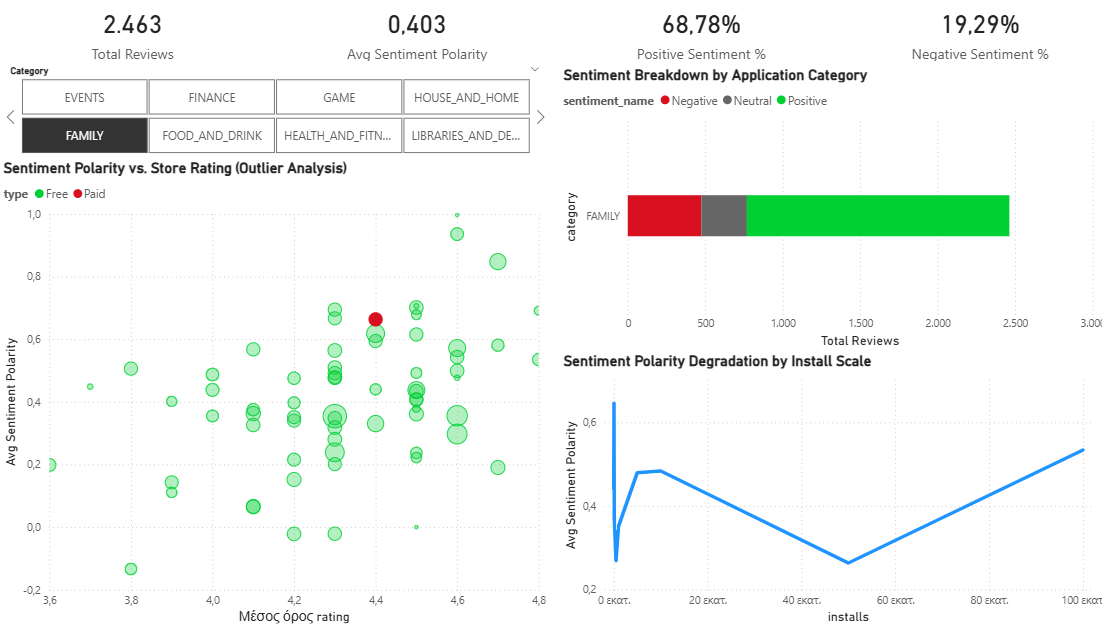

Layout of this report page (visuals, bound fields, positions):
{"tool":"powerbi","page":{"name":"Influencing Factors","canvas":[1280,720],"ordinal":2},"visuals":[{"type":"scatterChart","title":"Sentiment Polarity vs. Store Rating (Outlier Analysis)","fields":{"Category":["playstore_dw dim_apps.app_name"],"X":["playstore_dw dim_apps.rating"],"Y":["_Measures.Avg Sentiment Polarity"],"Size":["_Measures.Total Reviews"],"Series":["playstore_dw dim_apps.type"]},"box":[0,184.3,630,535.7],"z":0},{"type":"barChart","title":"Sentiment Breakdown by Application Category","fields":{"Category":["playstore_dw dim_apps.category"],"Y":["_Measures.Total Reviews"],"Series":["playstore_dw dim_sentiment_types.sentiment_name"]},"box":[640,77.1,630,327.1],"z":1000},{"type":"lineChart","title":"Sentiment Polarity Degradation by Install Scale","fields":{"Category":["playstore_dw dim_apps.installs"],"Y":["_Measures.Avg Sentiment Polarity"]},"box":[640,404.3,630,315.7],"z":2000},{"type":"slicer","fields":{"Values":["playstore_dw dim_apps.category"]},"box":[0,71.4,630,112.9],"z":3000},{"type":"card","fields":{"Values":["_Measures.Total Reviews"]},"box":[0,0,305.7,77.1],"z":4000},{"type":"card","fields":{"Values":["_Measures.Avg Sentiment Polarity"]},"box":[315.7,0,324.3,77.1],"z":5000},{"type":"card","fields":{"Values":["_Measures.Positive Sentiment %"]},"box":[642.9,0,320,77.1],"z":6000},{"type":"card","fields":{"Values":["_Measures.Negative Sentiment %"]},"box":[962.9,0,317.1,77.1],"z":7000}]}

Visuals, with their boxes in screenshot pixels (x1, y1, x2, y2), scaled from the page's 1280x720 canvas onto the 1102x624 screenshot:
"Sentiment Polarity vs. Store Rating (Outlier Analysis)" scatterChart: BBox(0, 160, 542, 623)
"Sentiment Breakdown by Application Category" barChart: BBox(551, 67, 1093, 350)
"Sentiment Polarity Degradation by Install Scale" lineChart: BBox(551, 350, 1093, 623)
slicer - playstore_dw dim_apps.category: BBox(0, 62, 542, 160)
card - _Measures.Total Reviews: BBox(0, 0, 263, 67)
card - _Measures.Avg Sentiment Polarity: BBox(272, 0, 551, 67)
card - _Measures.Positive Sentiment %: BBox(553, 0, 829, 67)
card - _Measures.Negative Sentiment %: BBox(829, 0, 1101, 67)
